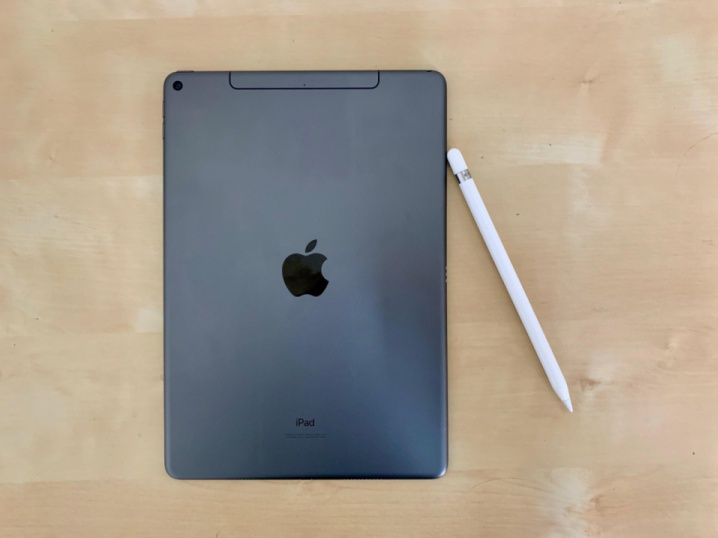apple: (270, 225, 345, 313)
